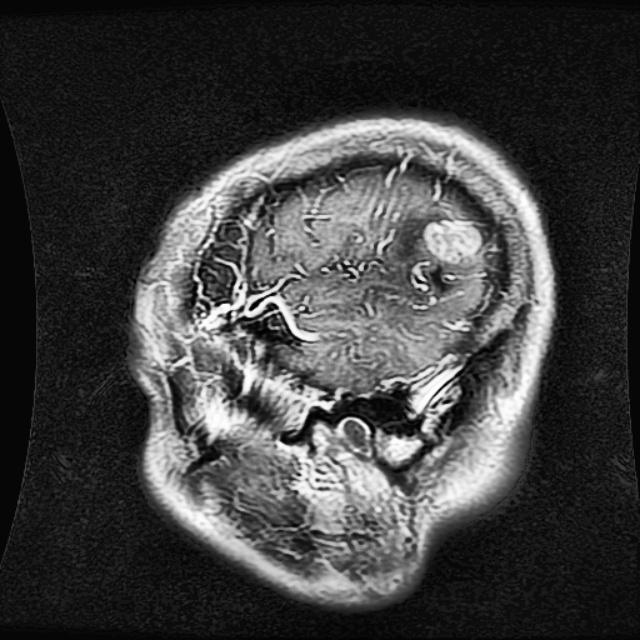Meningioma: (423, 219, 480, 260)
